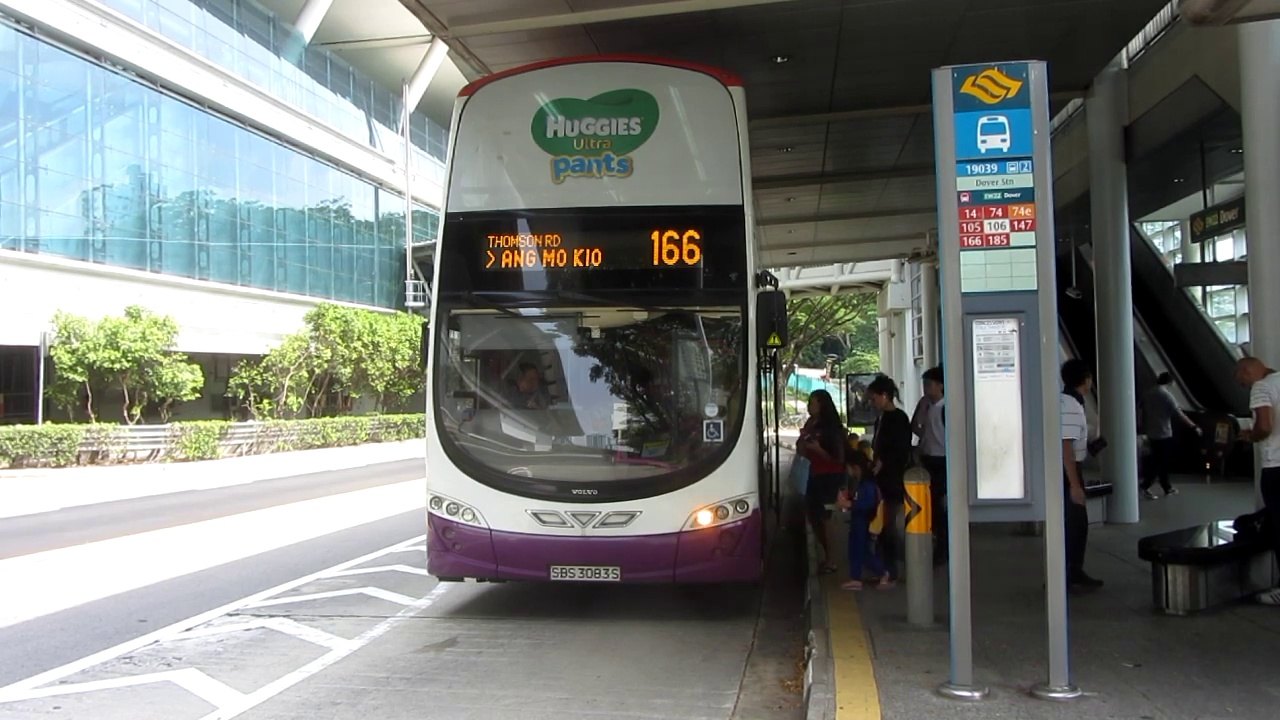bus panel: (479, 227, 708, 274)
